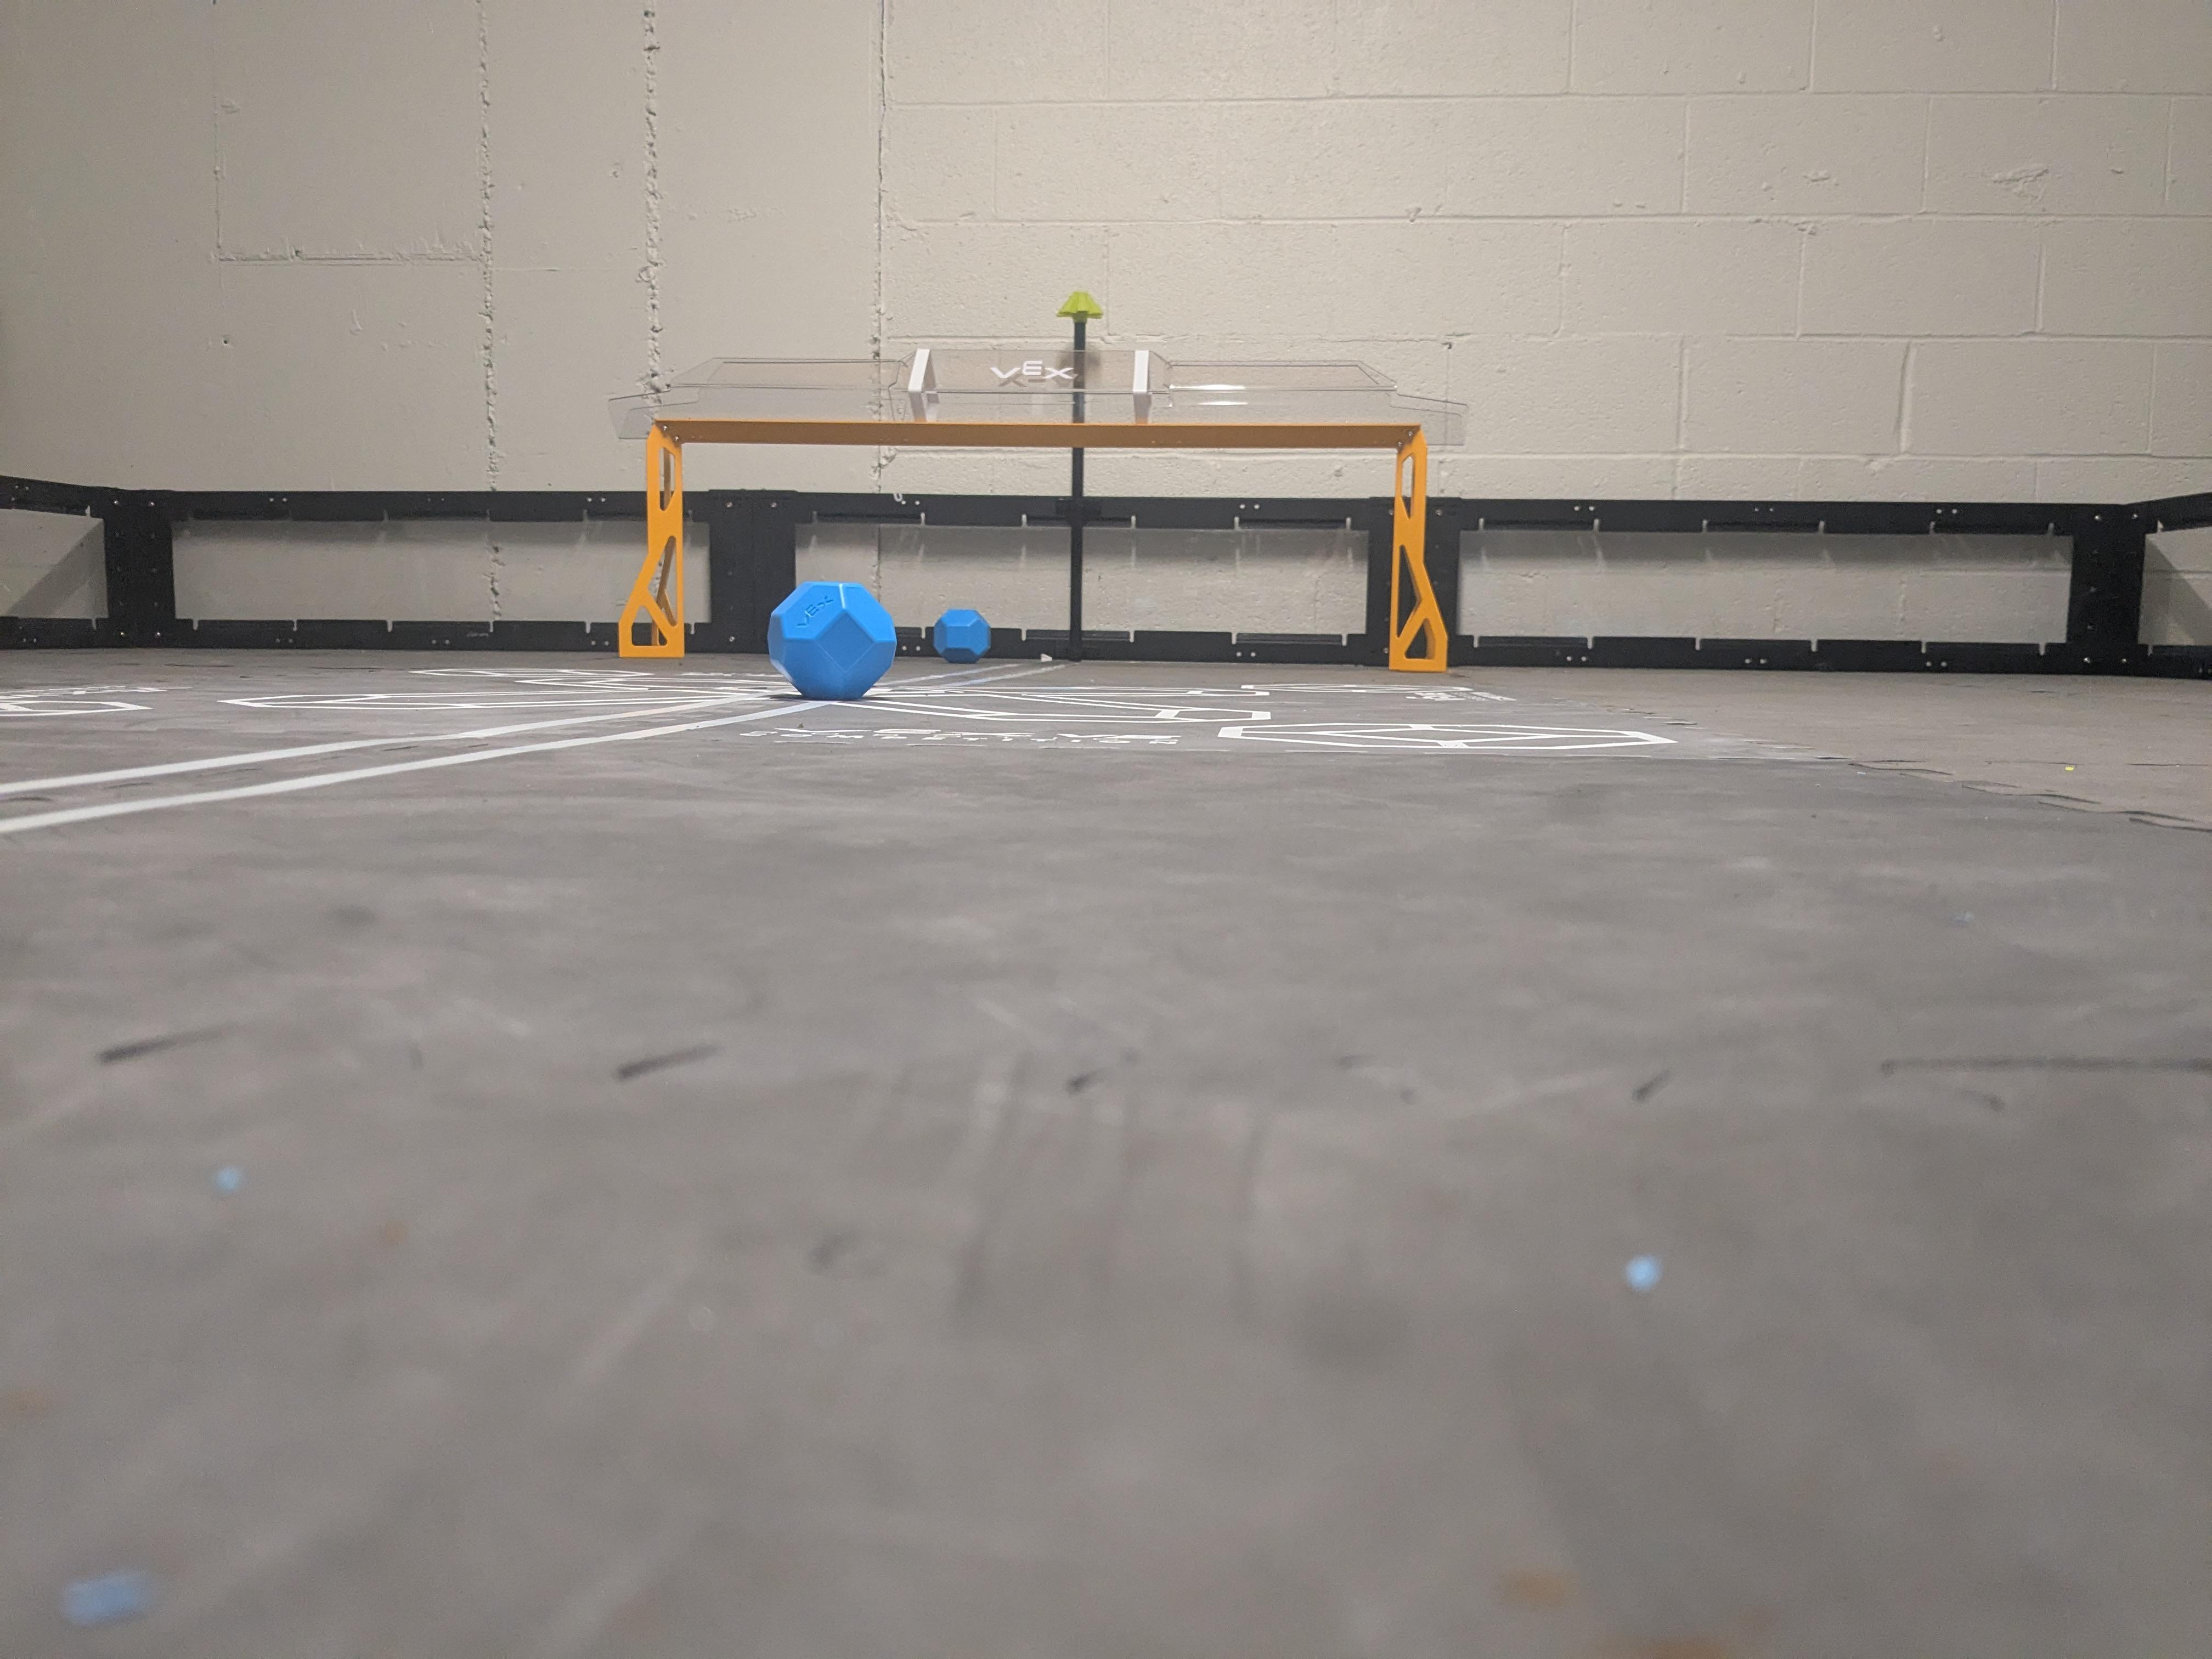Vex-Pieces-BLUE: (766, 582, 892, 699), (932, 608, 989, 664)
